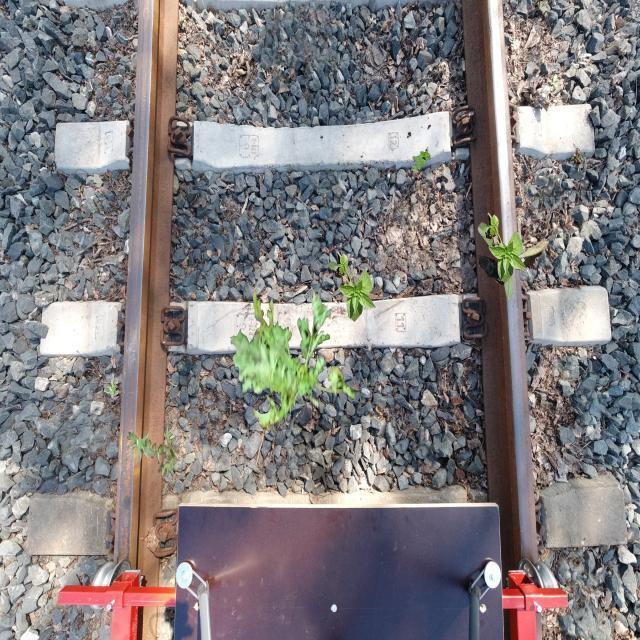Plant: (231, 287, 356, 434), (478, 226, 550, 300), (329, 251, 377, 322), (479, 213, 527, 284), (138, 424, 180, 478), (125, 431, 158, 466), (412, 148, 432, 172), (104, 379, 118, 394)
